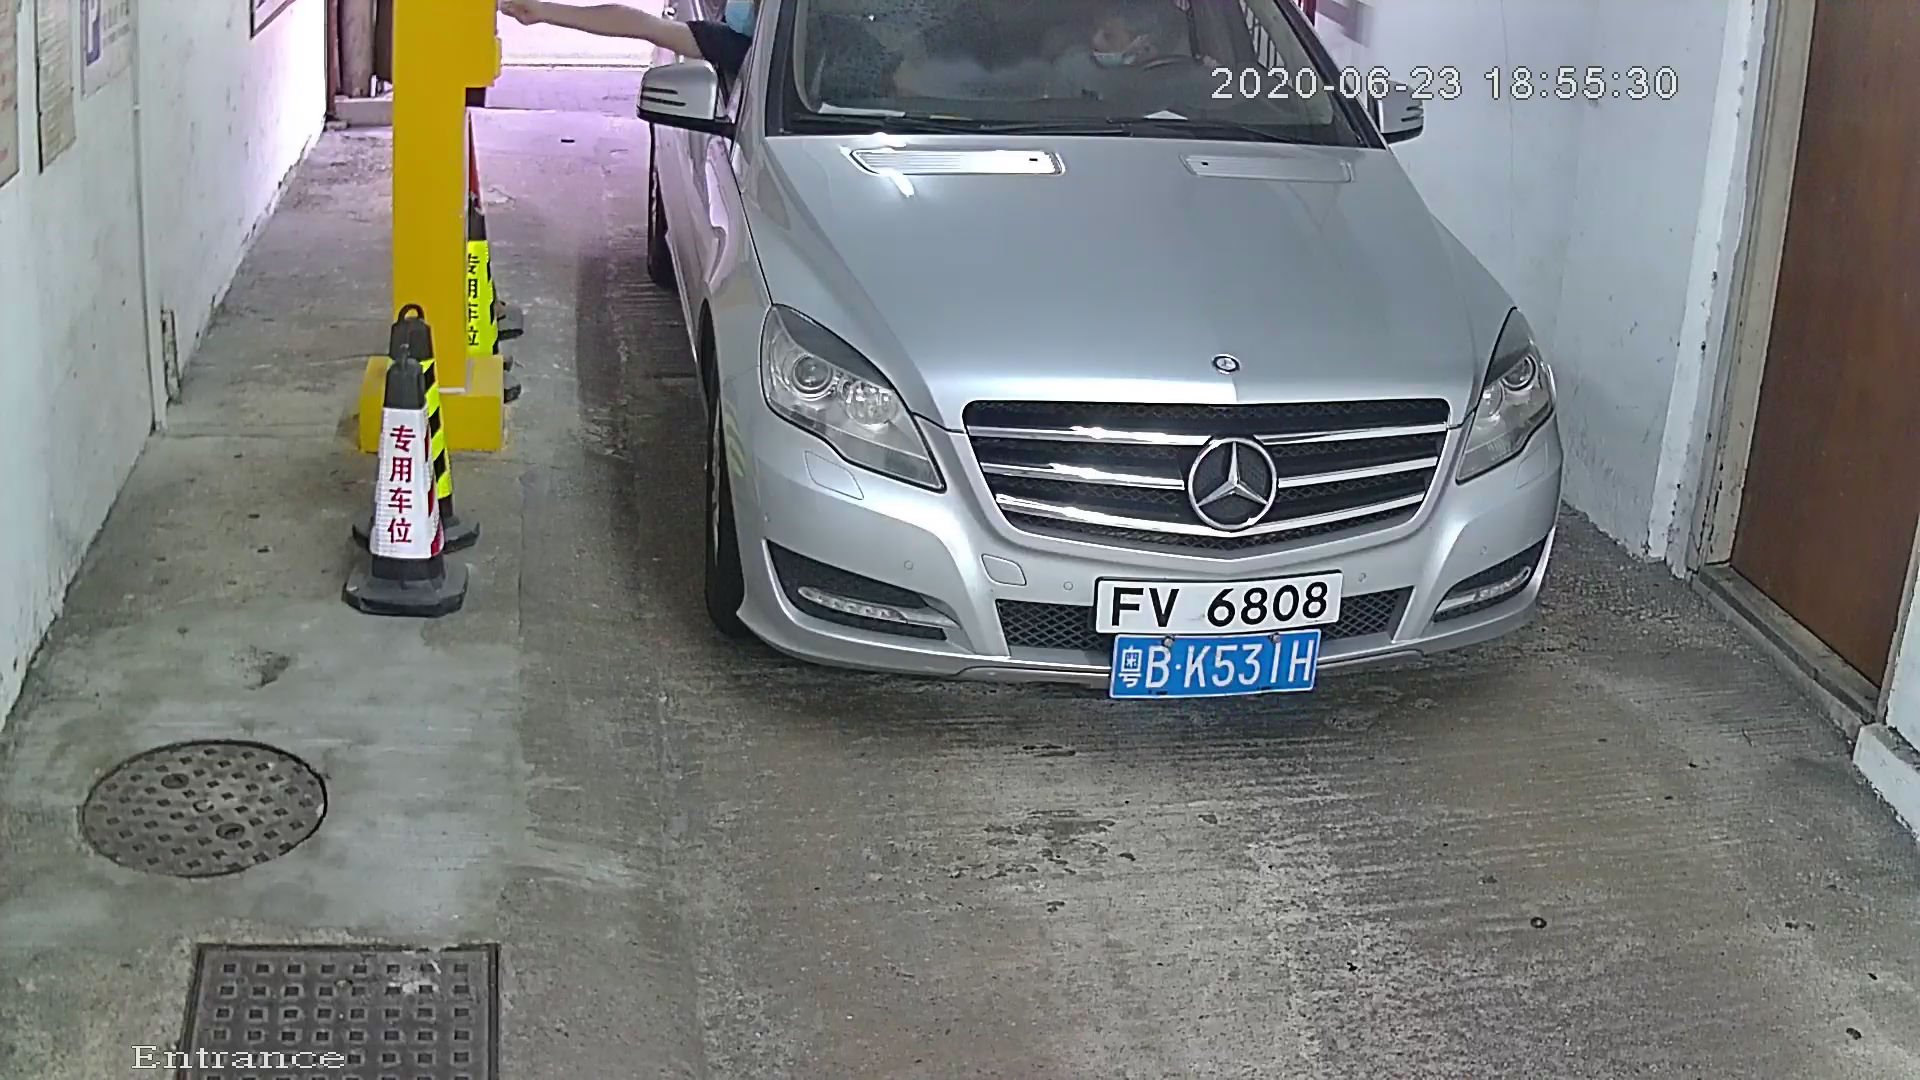privatecar: (632, 3, 1575, 738)
